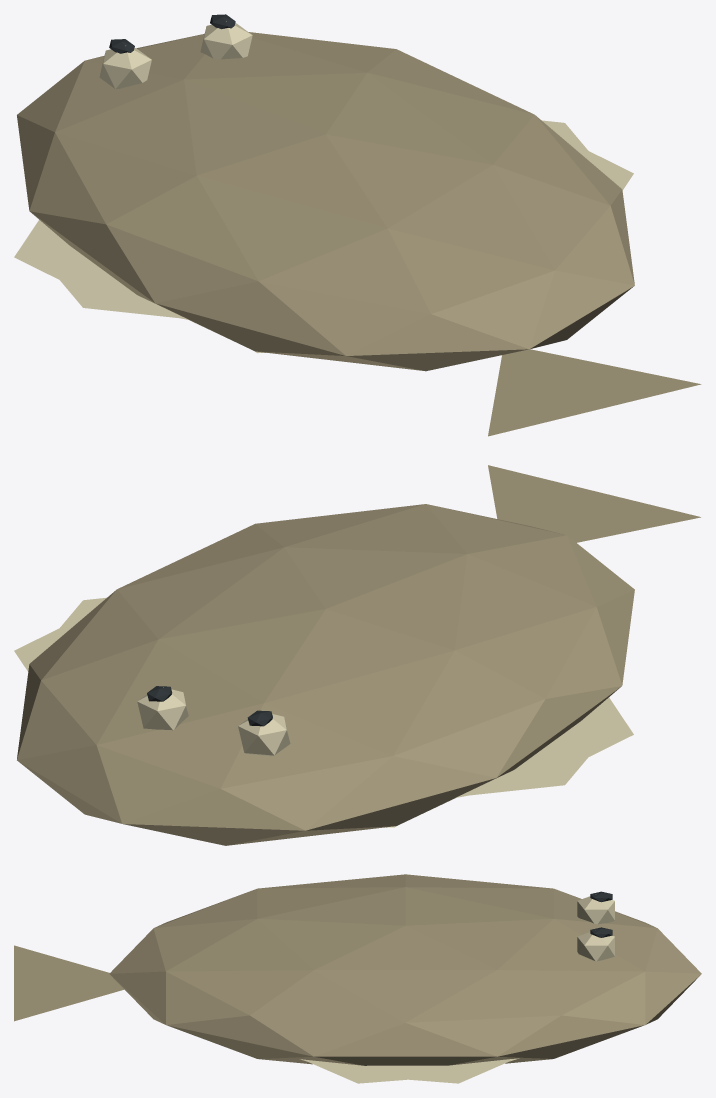
File: Halibut.fbx
The picture shows the model from 3 angles, top to bottom: view 1: azimuth 30°, elevation 25°; view 2: azimuth 150°, elevation 25°; view 3: azimuth 270°, elevation 25°; orthographic projection. The views are drawn at different scales.
Visible parts, largest first — view 1: Body, FlatTail, Fringe1, RaisedEye.001, RaisedEye, Fringe-1; view 2: Body, FlatTail, Fringe1, RaisedEye.001, RaisedEye, Fringe-1; view 3: Body, FlatTail, Fringe-1, RaisedEye, RaisedEye.001.
Boxes of the visible parts, x1=… form: Body: x1=17, y1=32, x2=634, y2=371; FlatTail: x1=488, y1=349, x2=701, y2=436; Fringe1: x1=14, y1=220, x2=188, y2=319; RaisedEye.001: x1=99, y1=45, x2=151, y2=89; RaisedEye: x1=200, y1=21, x2=252, y2=59; Fringe-1: x1=542, y1=120, x2=633, y2=190; Body: x1=17, y1=504, x2=634, y2=845; FlatTail: x1=488, y1=465, x2=700, y2=542; Fringe1: x1=456, y1=697, x2=633, y2=797; RaisedEye.001: x1=238, y1=714, x2=290, y2=756; RaisedEye: x1=137, y1=687, x2=188, y2=730; Fringe-1: x1=14, y1=597, x2=106, y2=671; Body: x1=109, y1=874, x2=701, y2=1065; FlatTail: x1=14, y1=945, x2=124, y2=1021; Fringe-1: x1=300, y1=1058, x2=519, y2=1083; RaisedEye: x1=577, y1=932, x2=614, y2=961; RaisedEye.001: x1=577, y1=896, x2=614, y2=924.
Bounding box in the file's own units: 0.875 × 0.217 × 1.3.
